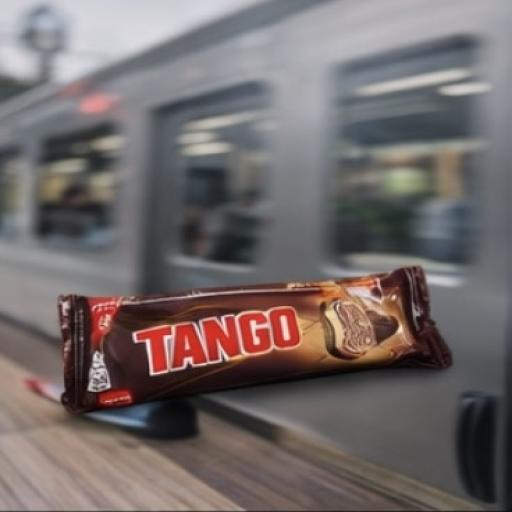tango: (30, 247, 456, 422)
